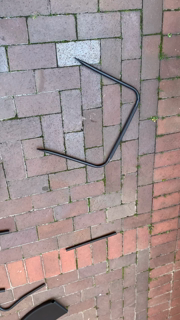C pipe: (33, 56, 143, 169)
i pipe: (65, 229, 118, 253)
